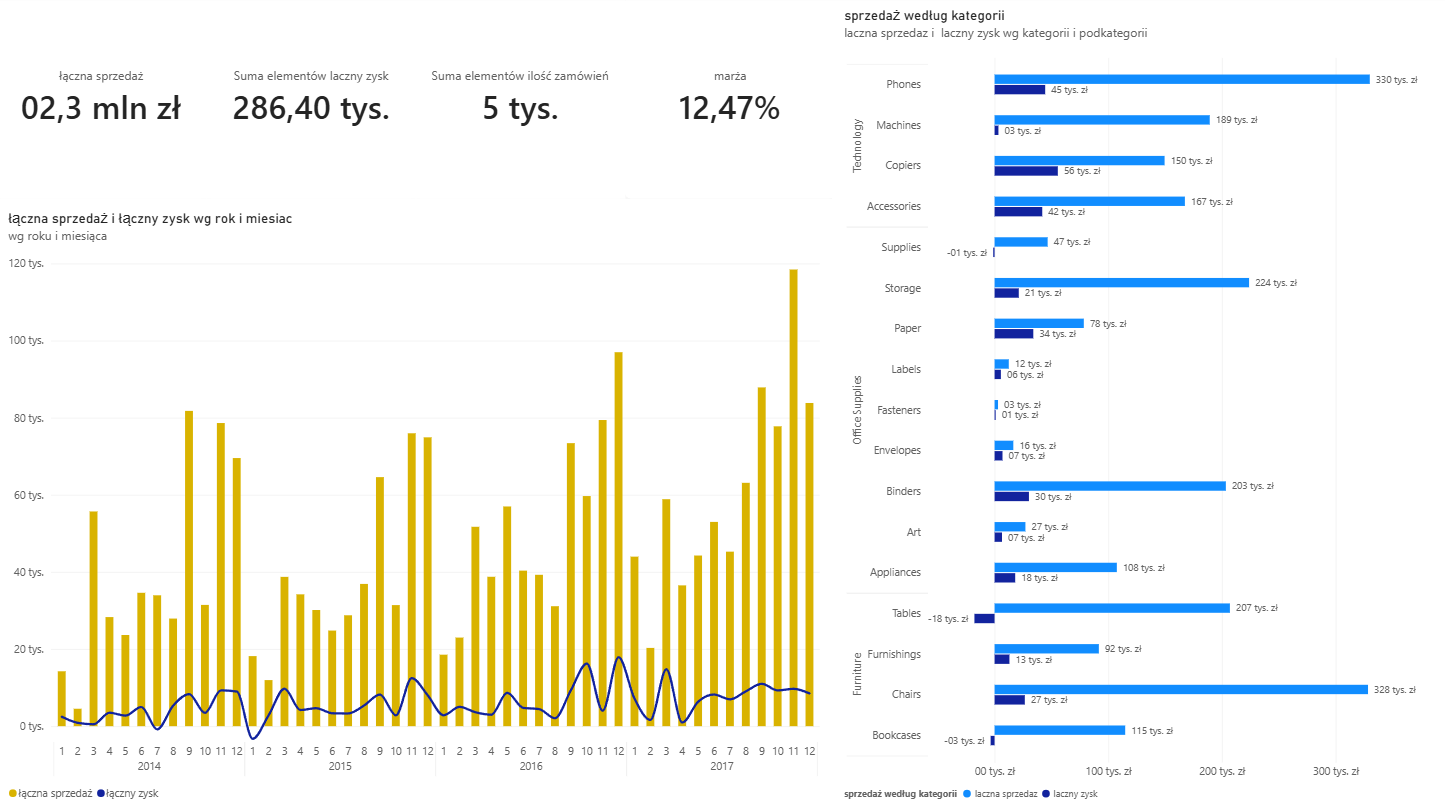

Layout of this report page (visuals, bound fields, positions):
{"tool":"powerbi","page":{"name":"kluczowe dane","canvas":[1920,1080],"ordinal":0},"visuals":[{"type":"clusteredBarChart","title":"sprzedaż według kategorii","fields":{"Category":["laczny zysk sprzedaz.kategoria","laczny zysk sprzedaz.podkategoria"],"Y":["Sum(laczny zysk sprzedaz.laczna sprzedaz)","Sum(laczny zysk sprzedaz.laczny zysk)"]},"box":[1101.1,0,819.2,1080],"z":0},{"type":"cardVisual","fields":{"Data":["Sum(laczny zysk sprzedaz.laczna sprzedaz)"]},"box":[0,0,277,267],"z":1000},{"type":"lineStackedColumnComboChart","fields":{"Category":["data.rok","data.miesiac"],"Y":["Sum(data.laczna sprzedaz)"],"Y2":["Sum(data.laczny zysk)"]},"box":[0,267.4,1101.1,812.6],"z":2000},{"type":"cardVisual","fields":{"Data":["Sum(data.laczny zysk)"]},"box":[276.1,0,277,267],"z":3000},{"type":"cardVisual","fields":{"Data":["Sum(kpi.ilość zamówień)"]},"box":[552.3,0,277,267],"z":4000},{"type":"cardVisual","fields":{"Data":["Sum(kpi.marża)"]},"box":[828.4,0,277,267],"z":5000}]}

Visuals, with their boxes in screenshot pixels (x1, y1, x2, y2), scaled from the page's 1920x1080 canvas onto the 1445x811 screenshot:
"sprzedaż według kategorii" clusteredBarChart: {"left": 829, "top": 0, "right": 1444, "bottom": 810}
cardVisual - Sum(laczny zysk sprzedaz.laczna sprzedaz): {"left": 0, "top": 0, "right": 208, "bottom": 200}
lineStackedColumnComboChart - data.rok x data.miesiac: {"left": 0, "top": 201, "right": 829, "bottom": 810}
cardVisual - Sum(data.laczny zysk): {"left": 208, "top": 0, "right": 416, "bottom": 200}
cardVisual - Sum(kpi.ilość zamówień): {"left": 416, "top": 0, "right": 624, "bottom": 200}
cardVisual - Sum(kpi.marża): {"left": 623, "top": 0, "right": 832, "bottom": 200}
